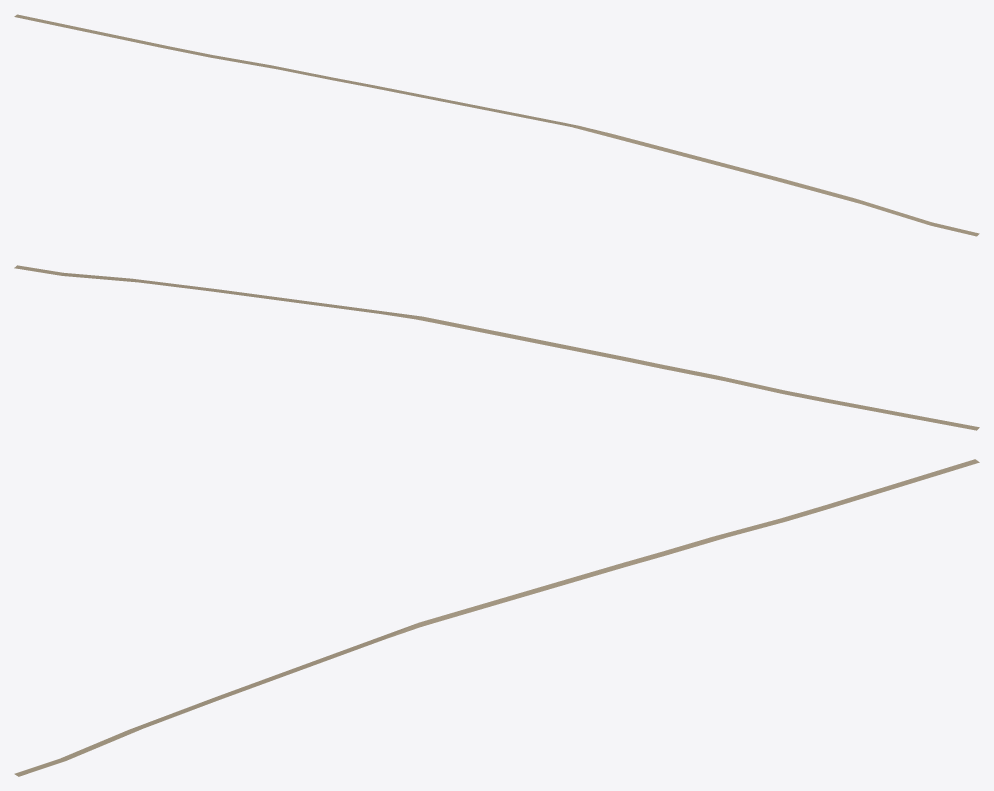
File: farm_2_14_track.glb
The picture shows the model from 3 angles, top to bottom: view 1: azimuth 30°, elevation 25°; view 2: azimuth 210°, elevation 25°; view 3: azimuth 270°, elevation 25°; orthographic projection. The views are drawn at different scales.
Parts seen in each view (by area): view 1: geometry_0; view 2: geometry_0; view 3: geometry_0.
Boxes of the visible parts, x1=… form: geometry_0: x1=14, y1=14, x2=979, y2=236; geometry_0: x1=14, y1=265, x2=979, y2=430; geometry_0: x1=14, y1=459, x2=979, y2=776.
Size of the model in its own units: 266 by 13.92 by 380.
